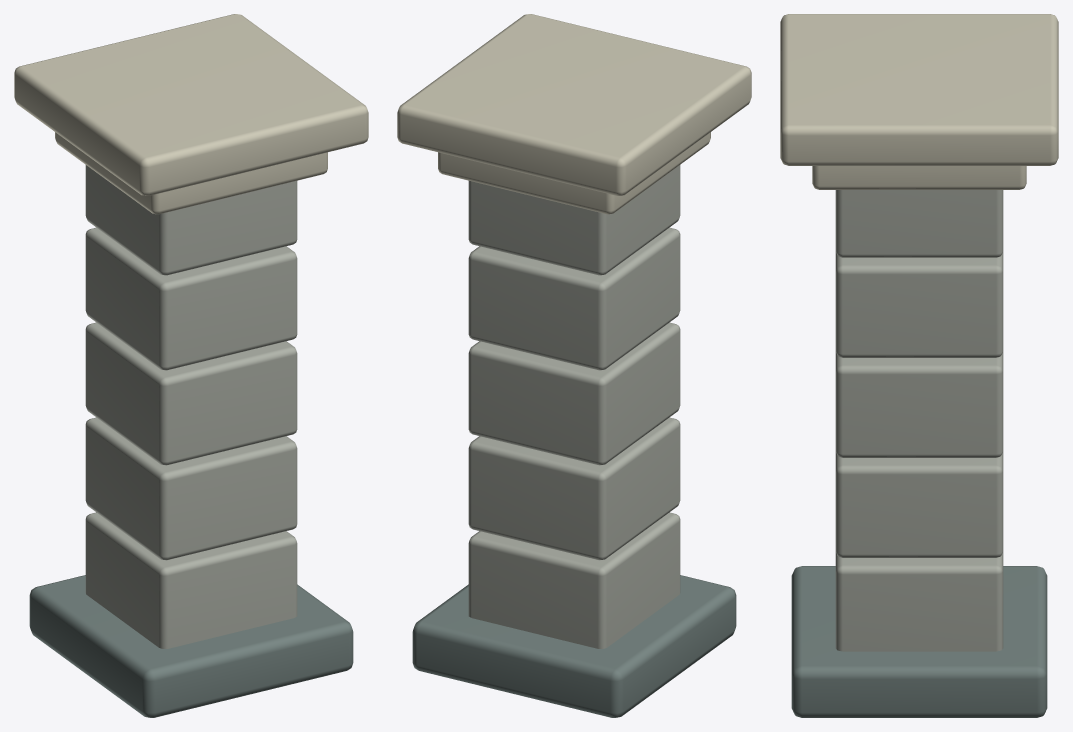
Rendered from SM_Pillar_Stone_3m.fbx.
3 renders of one model, left to right at view 1: azimuth 30°, elevation 25°; view 2: azimuth 150°, elevation 25°; view 3: azimuth 270°, elevation 25°, orthographic. The views are drawn at different scales.
Parts seen in each view (by area): view 1: SM_Pillar_Stone_3m; view 2: SM_Pillar_Stone_3m; view 3: SM_Pillar_Stone_3m.
Boxes of the visible parts, box(x1,y1,x2,y2) form: SM_Pillar_Stone_3m: box(14, 14, 368, 717); SM_Pillar_Stone_3m: box(397, 14, 751, 717); SM_Pillar_Stone_3m: box(780, 14, 1058, 717).
Size of the model in its own units: 1.36 by 3.23 by 1.36.
